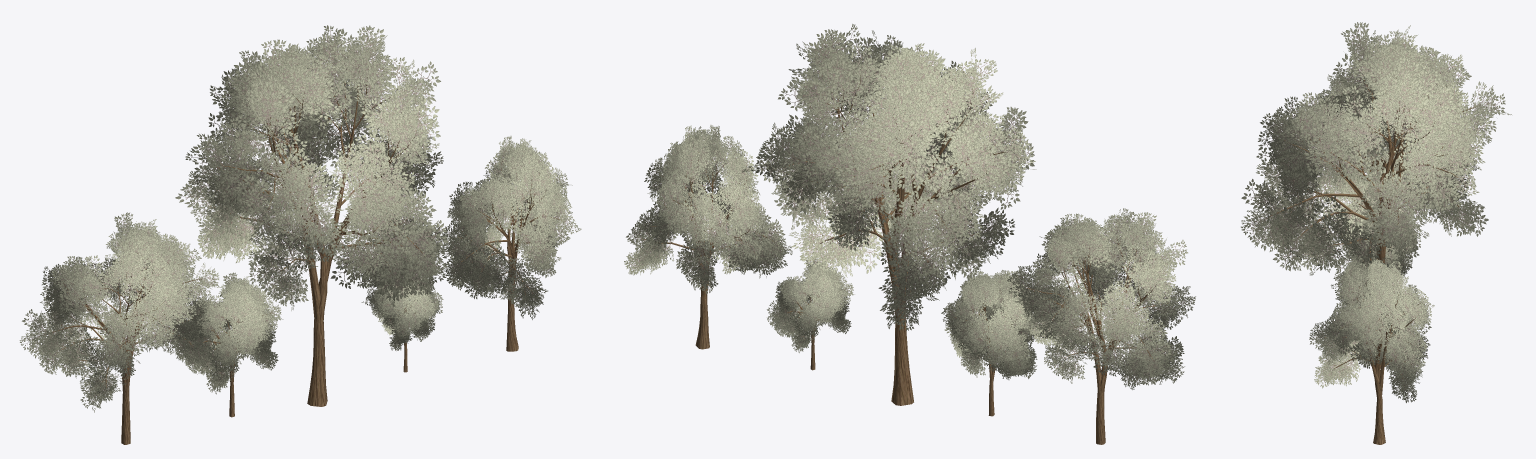
The model's file is Elven_Trees_Group_A.fbx.
The picture shows the model from 3 angles, left to right: view 1: azimuth 30°, elevation 25°; view 2: azimuth 150°, elevation 25°; view 3: azimuth 270°, elevation 25°; orthographic projection. The views are drawn at different scales.
Visible parts, largest first — view 1: Elven_Tree_1A3, Elven_Tree_1A1, Elven_Tree_1A2, Elven_Tree_Small_1A1, Elven_Tree_Small_1A2; view 2: Elven_Tree_1A3, Elven_Tree_1A1, Elven_Tree_1A2, Elven_Tree_Small_1A1, Elven_Tree_Small_1A2; view 3: Elven_Tree_1A3, Elven_Tree_1A2, Elven_Tree_1A1, Elven_Tree_Small_1A1.
Boxes of the visible parts, bbox=[...] form: Elven_Tree_1A3: bbox=[175, 25, 454, 406]; Elven_Tree_1A1: bbox=[19, 212, 222, 444]; Elven_Tree_1A2: bbox=[441, 136, 581, 351]; Elven_Tree_Small_1A1: bbox=[176, 272, 283, 417]; Elven_Tree_Small_1A2: bbox=[361, 277, 443, 372]; Elven_Tree_1A3: bbox=[742, 24, 1036, 405]; Elven_Tree_1A1: bbox=[1007, 208, 1195, 444]; Elven_Tree_1A2: bbox=[624, 125, 792, 349]; Elven_Tree_Small_1A1: bbox=[941, 270, 1041, 416]; Elven_Tree_Small_1A2: bbox=[767, 259, 854, 370]; Elven_Tree_1A3: bbox=[1241, 22, 1511, 360]; Elven_Tree_1A2: bbox=[1309, 257, 1434, 444]; Elven_Tree_1A1: bbox=[1295, 70, 1453, 211]; Elven_Tree_Small_1A1: bbox=[1334, 193, 1421, 276].
Size of what is drawn, in the model's own units: 5627 by 3630 by 2891.
